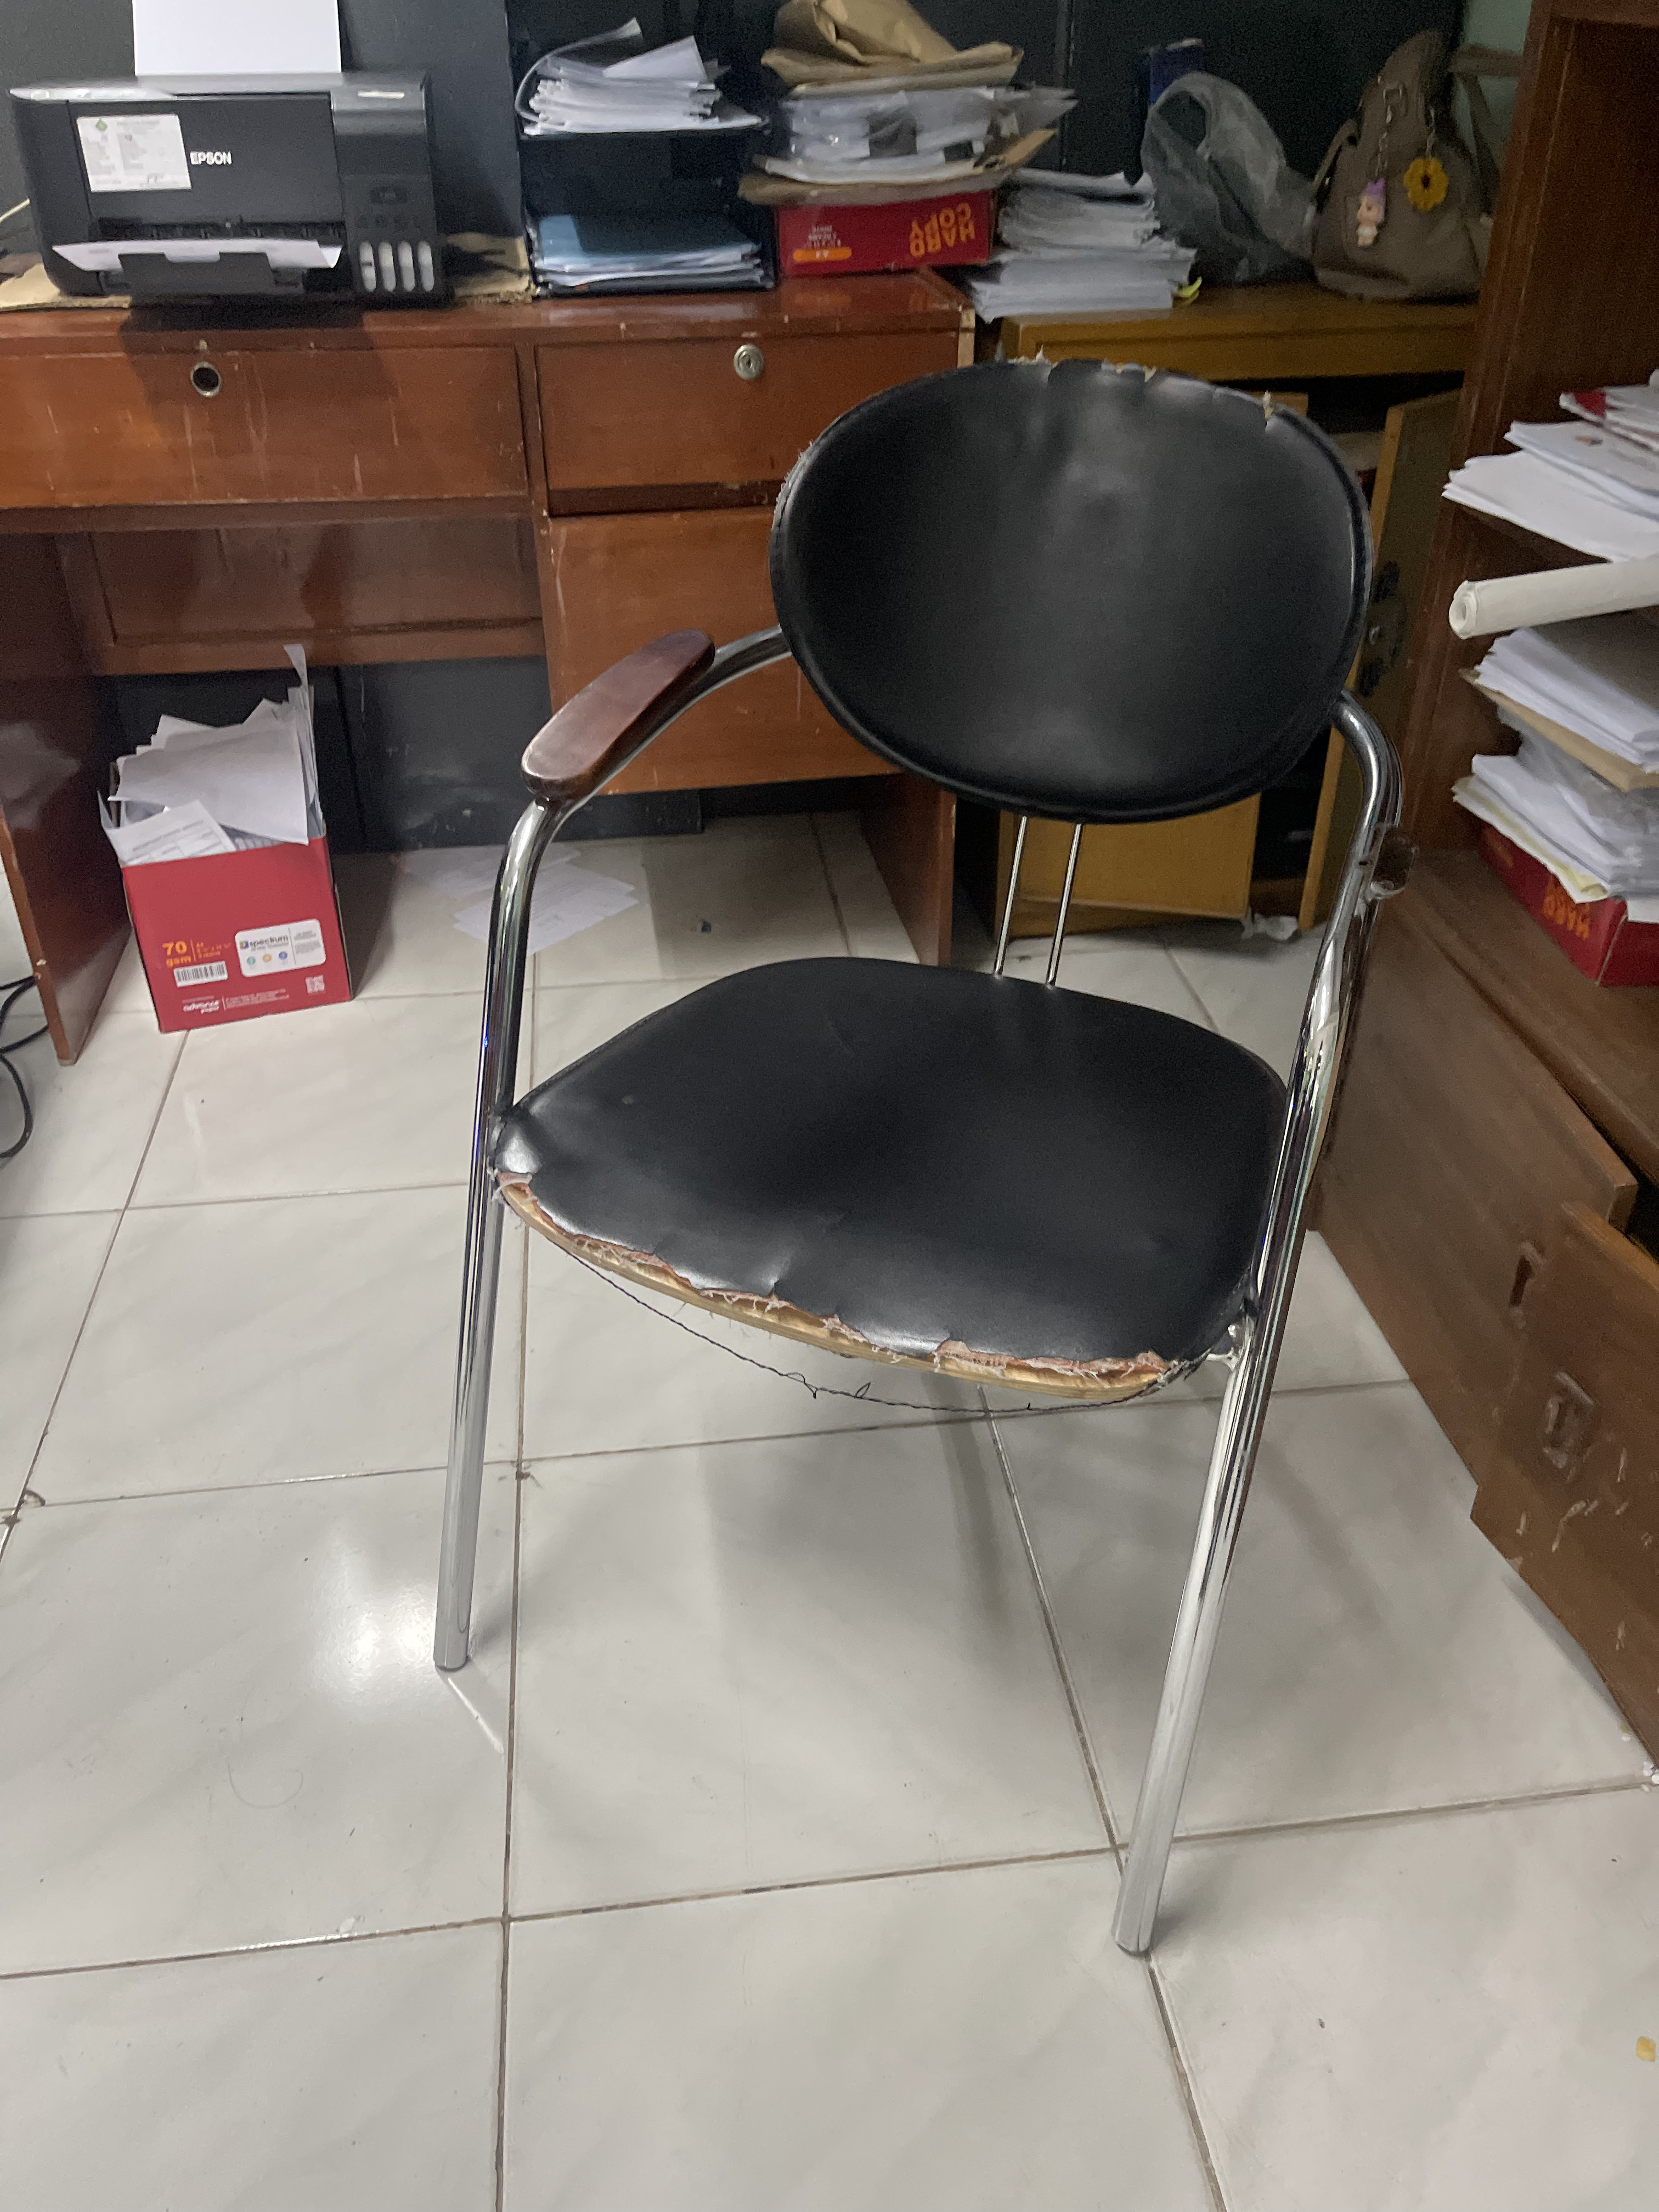chair1: (423, 354, 1427, 1951)
